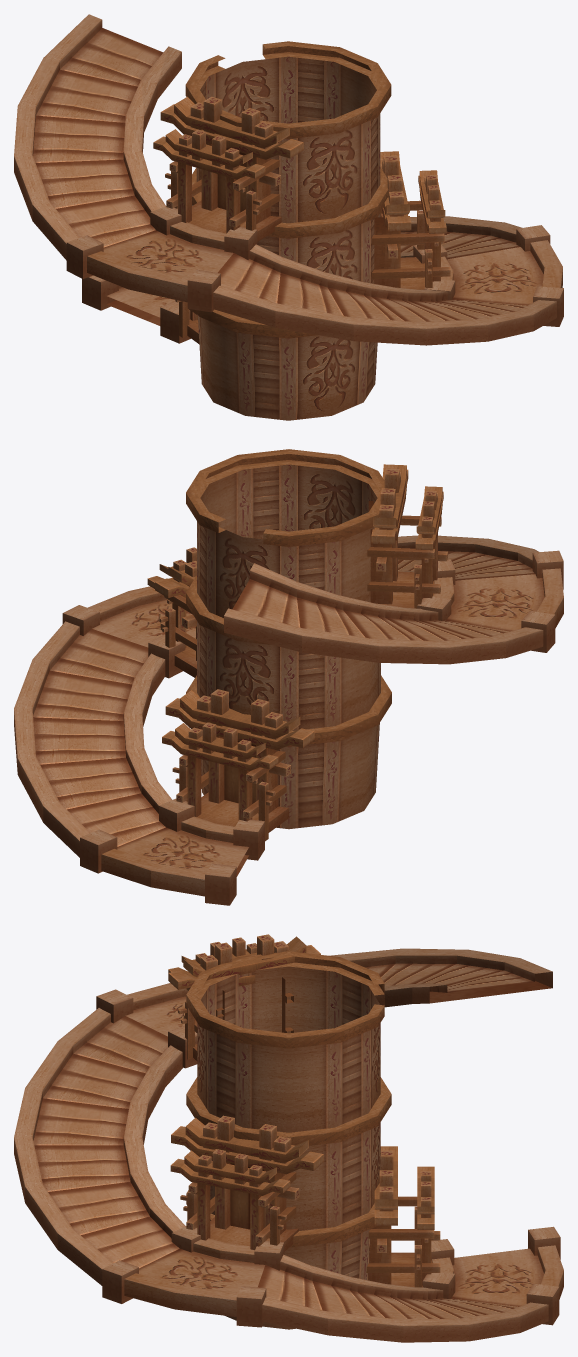
The model's file is QCL_LouTi.FBX.
The picture shows the model from 3 angles, top to bottom: view 1: azimuth 30°, elevation 25°; view 2: azimuth 150°, elevation 25°; view 3: azimuth 270°, elevation 25°; orthographic projection.
Parts seen in each view (by area): view 1: Object23; view 2: Object23; view 3: Object23.
Part boxes in pixels (<box>): Object23: <box>14,14,563,420</box>; Object23: <box>14,449,563,905</box>; Object23: <box>14,934,563,1342</box>.
Size of the model in its own units: 30.09 by 18.81 by 30.
